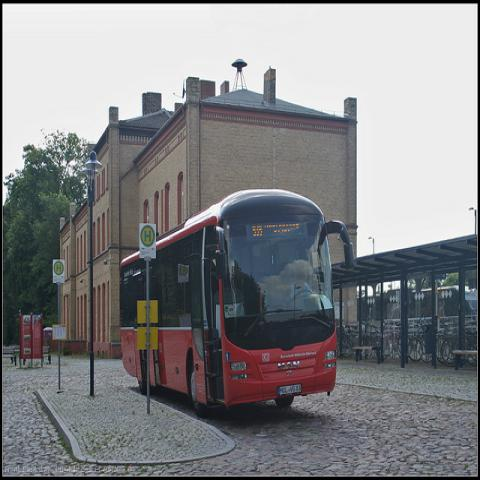bus: (120, 189, 355, 415)
